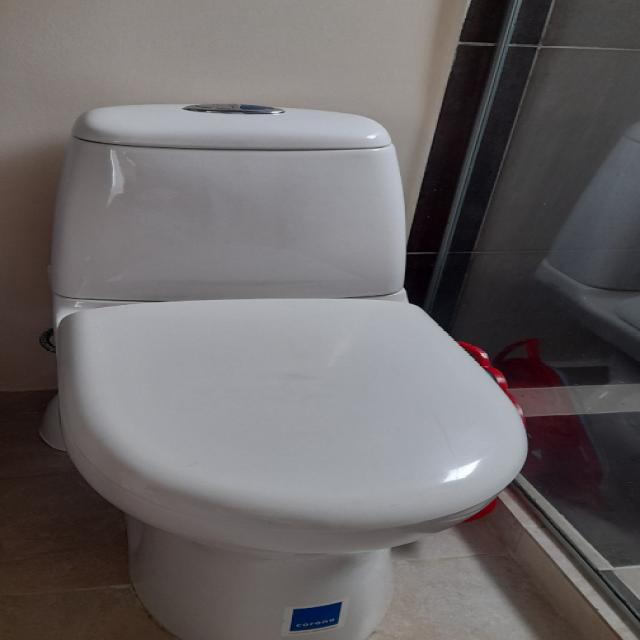toilet: (44, 102, 528, 639)
